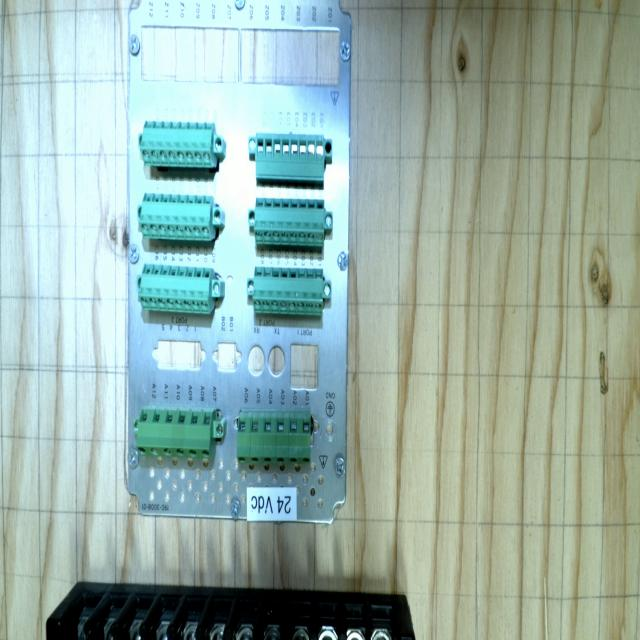Terminal_1: (136, 408, 213, 459), (237, 413, 311, 464)
Terminal_2: (138, 264, 213, 314), (139, 193, 213, 241), (252, 266, 324, 315), (253, 197, 325, 246), (140, 121, 214, 167)
